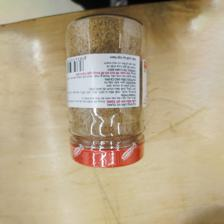Hao_hao: (63, 13, 151, 170)
